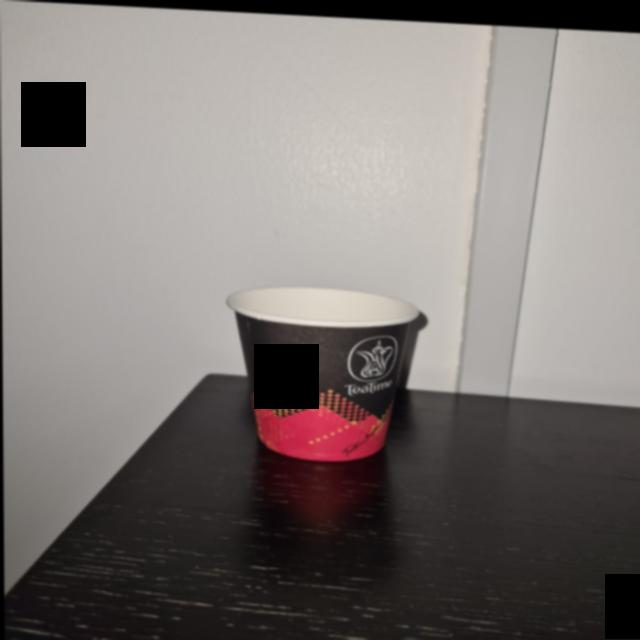cups: (221, 284, 425, 461)
